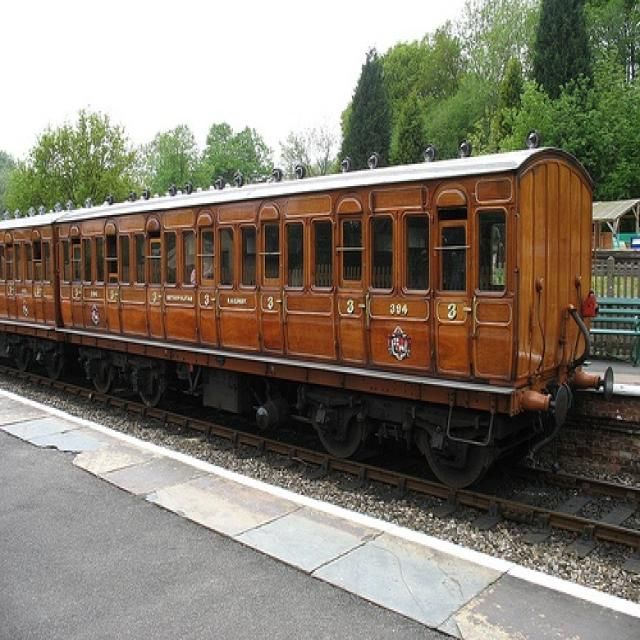train: (2, 128, 620, 502)
